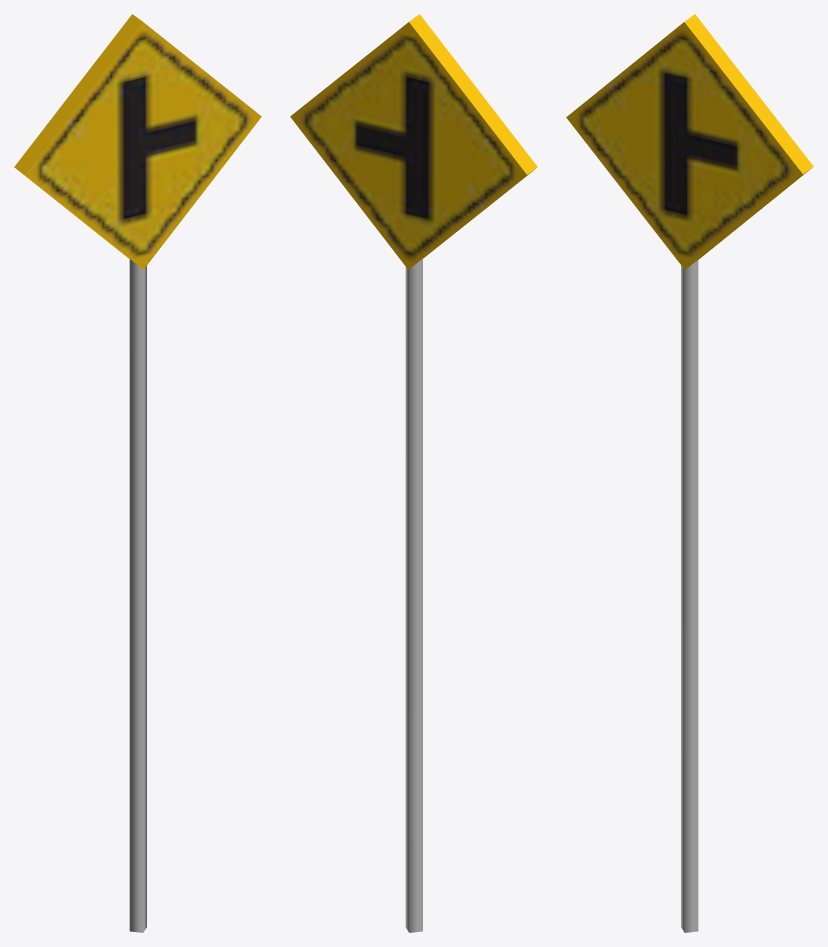
The model's file is Warning right sign.fbx.
3 views of the same model, side by side, from view 1: azimuth 30°, elevation 25°; view 2: azimuth 150°, elevation 25°; view 3: azimuth 330°, elevation 25° (orthographic).
Visible parts, largest first — view 1: Warning_Right sign; view 2: Warning_Right sign; view 3: Warning_Right sign.
Part boxes in pixels (x1,y1,x2,y2): Warning_Right sign: (14, 14, 261, 932); Warning_Right sign: (290, 14, 537, 932); Warning_Right sign: (566, 14, 813, 932).
Size of the model in its own units: 8.99 by 33.01 by 0.7061.
